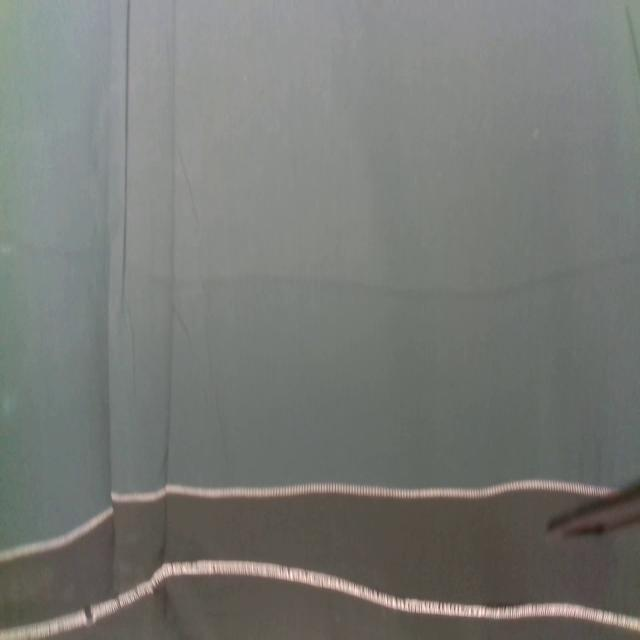color bleeding: (0, 218, 640, 310)
crease: (162, 9, 178, 488), (118, 0, 133, 316)
